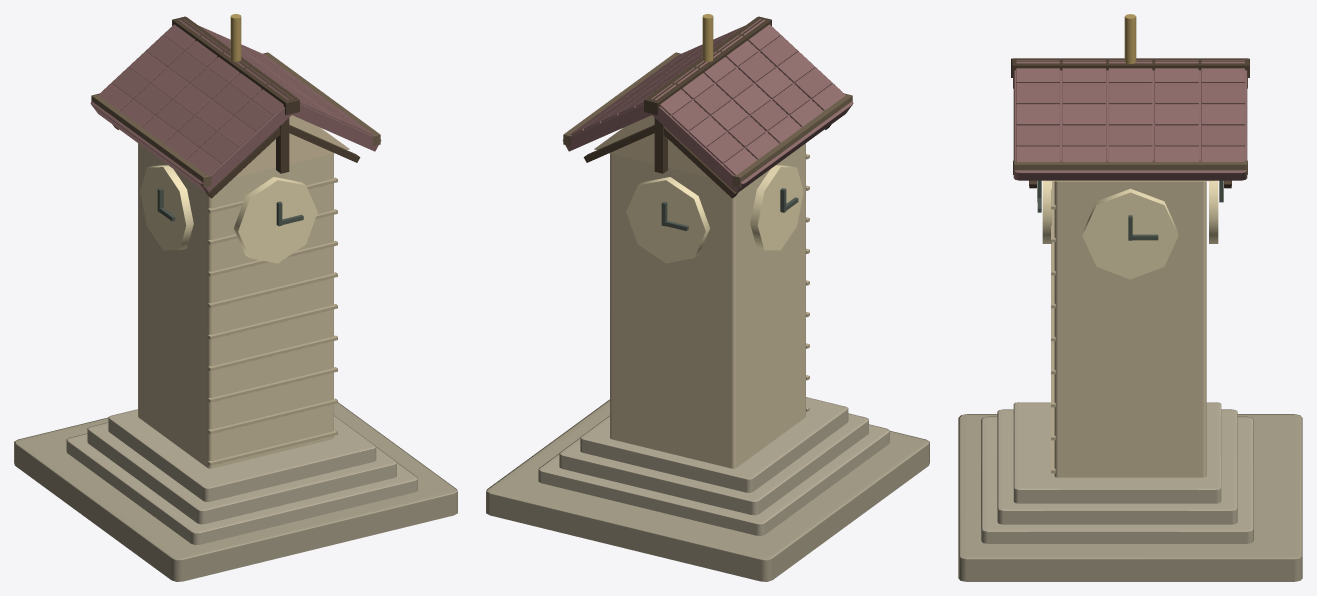
The model's file is clock-1.glb.
3 views of the same model, side by side, from view 1: azimuth 30°, elevation 25°; view 2: azimuth 150°, elevation 25°; view 3: azimuth 270°, elevation 25° (orthographic). The views are drawn at different scales.
Visible parts, largest first — view 1: clock-1-0; view 2: clock-1-0; view 3: clock-1-0.
Boxes of the visible parts, x1,y1,x2,y2 form: clock-1-0: [14, 14, 457, 581]; clock-1-0: [486, 14, 929, 581]; clock-1-0: [958, 14, 1302, 581].
Bounding box in the file's own units: 2.65 × 4.19 × 2.65.
